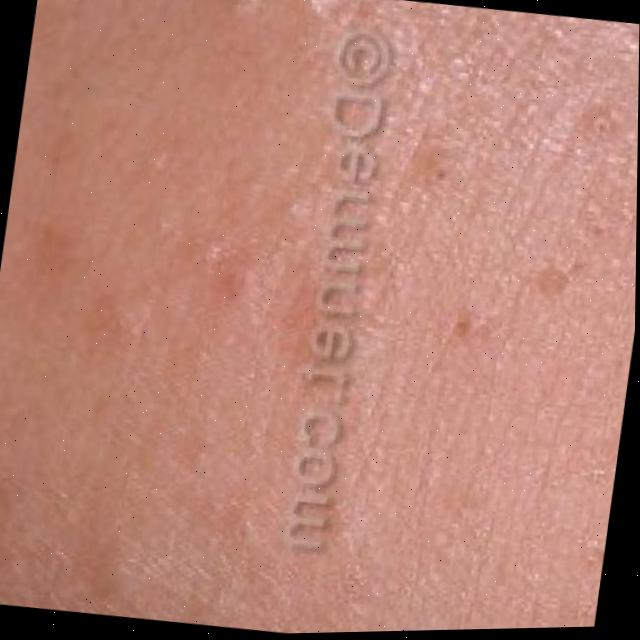Acne: (68, 0, 640, 620)
